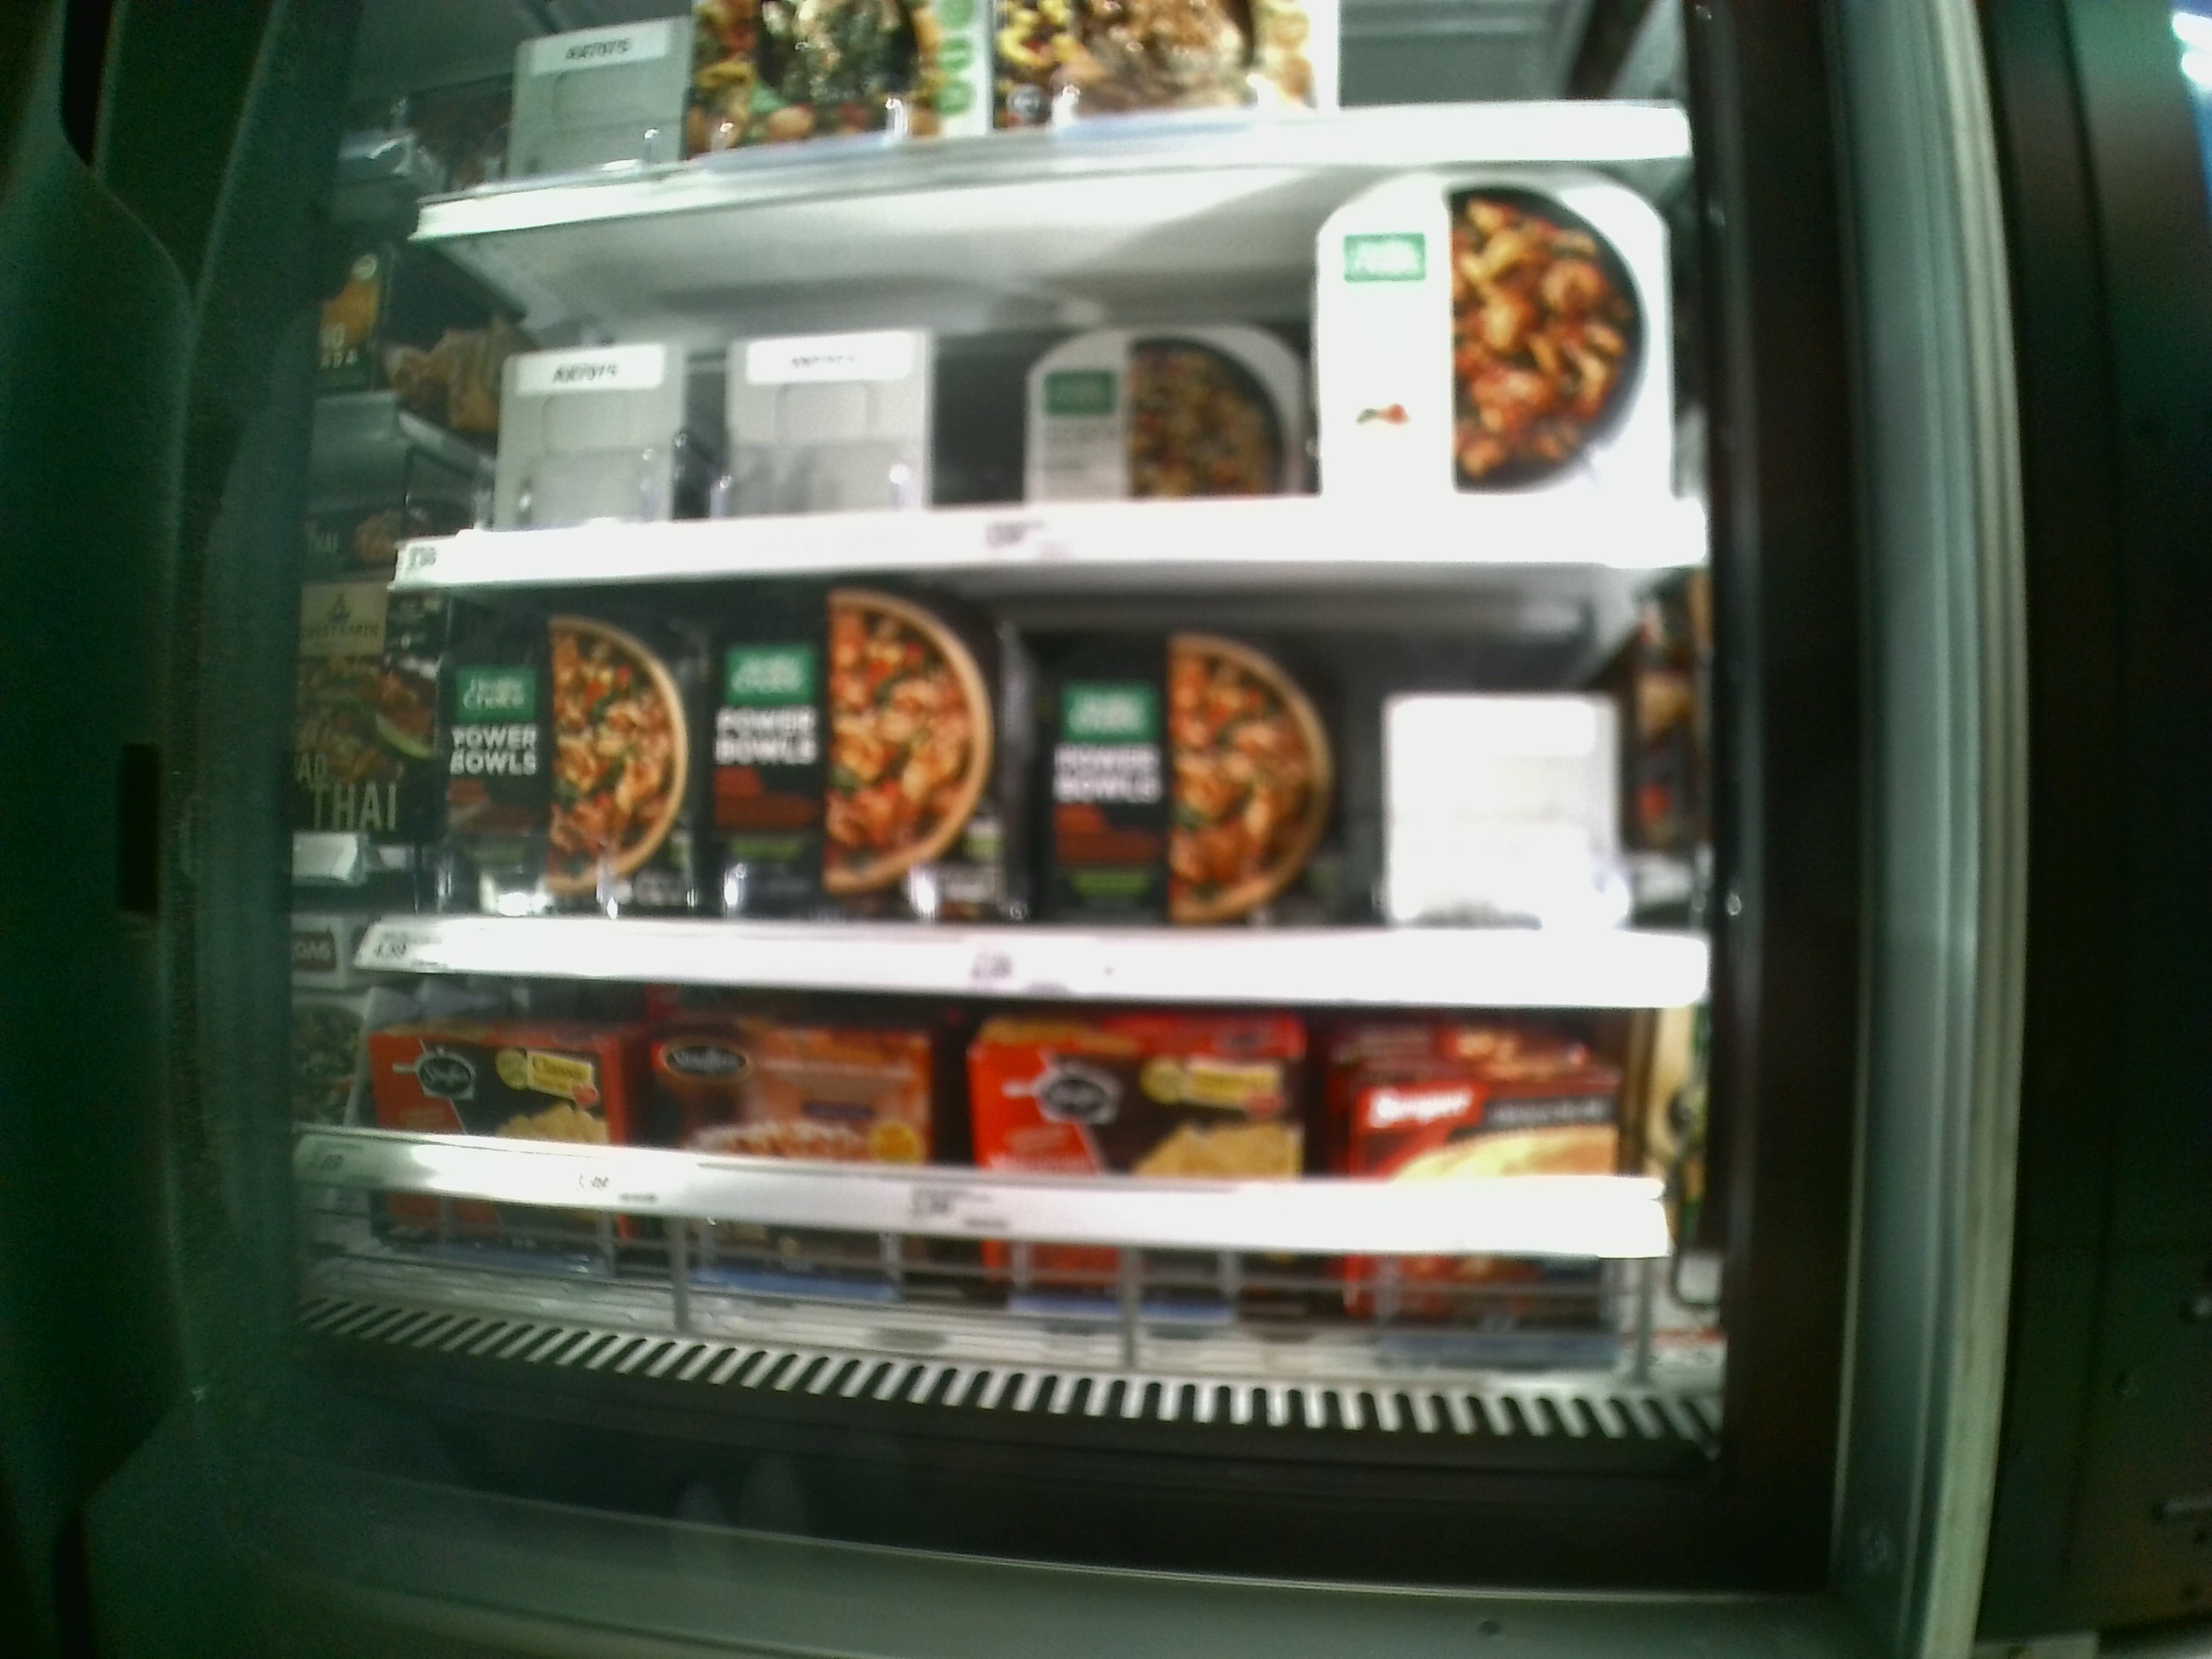shelf: (320, 969, 1731, 1485), (387, 582, 1726, 1004), (392, 164, 1702, 586)
